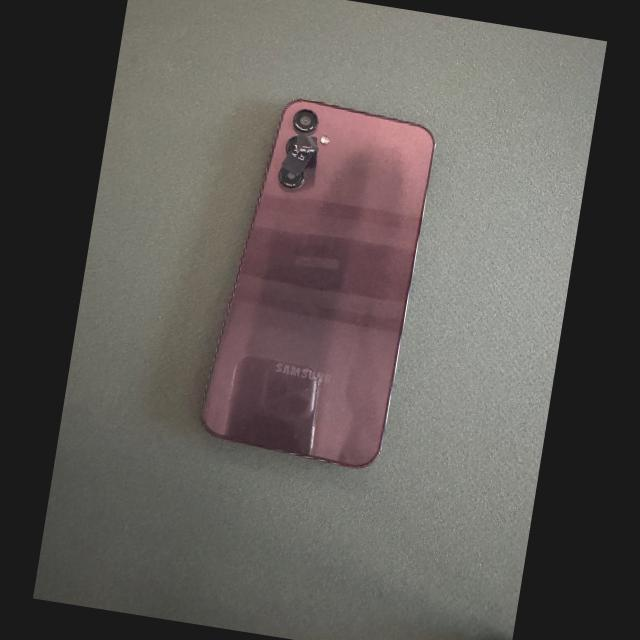lens: (294, 110, 317, 133), (280, 169, 304, 188), (287, 137, 297, 154)
phone: (201, 99, 435, 467)
sticker: (281, 136, 319, 175)
